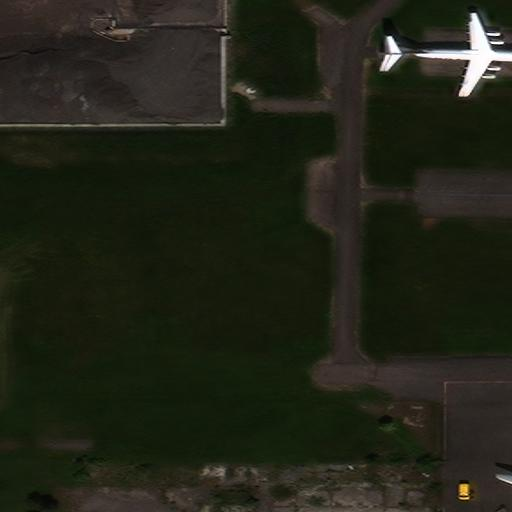Medium Civil Transport: (378, 10, 512, 97)
